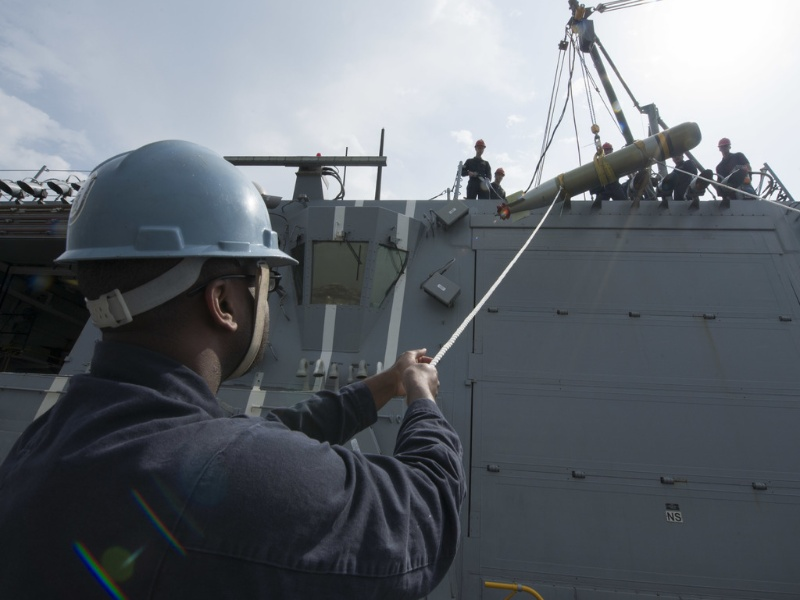Baret: (57, 138, 294, 271)
